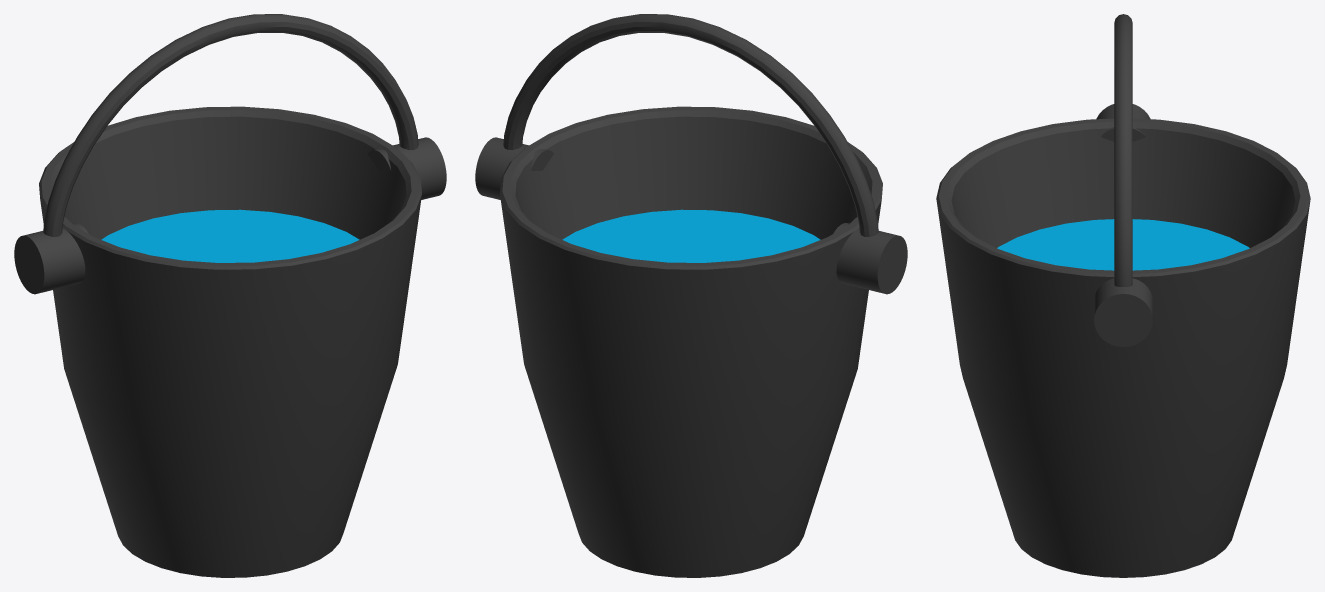
The model's file is Balde.fbx.
3 views of the same model, side by side, from view 1: azimuth 30°, elevation 25°; view 2: azimuth 150°, elevation 25°; view 3: azimuth 270°, elevation 25° (orthographic). The views are drawn at different scales.
Visible parts, largest first — view 1: Balde; view 2: Balde; view 3: Balde.
Boxes of the visible parts, x1,y1,x2,y2 form: Balde: [14, 14, 446, 577]; Balde: [475, 14, 907, 577]; Balde: [936, 14, 1310, 577].
Size of the model in its own units: 26.7 by 32.41 by 22.07.
